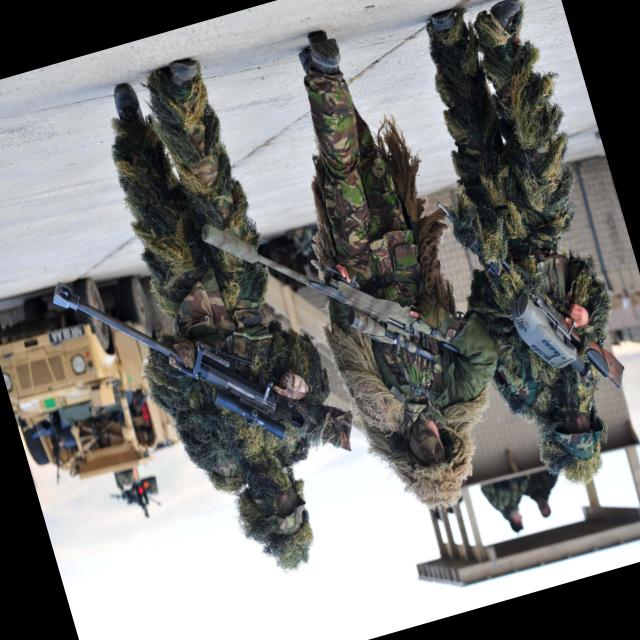Weapon: (45, 213, 363, 522), (197, 154, 488, 428), (434, 164, 630, 425)
